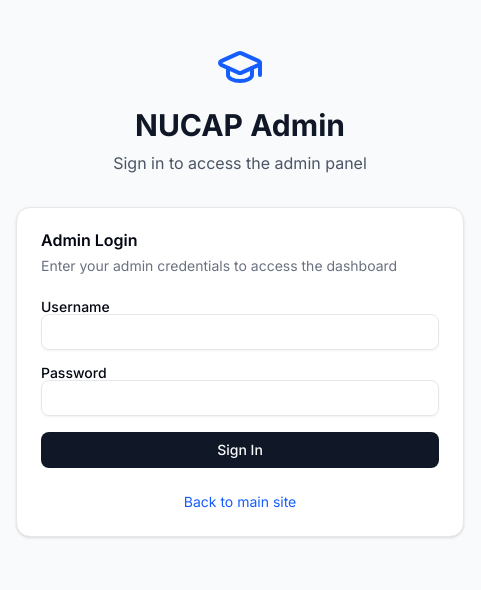
Test case: AdminLoginPage › should show error message when login fails
The image size is (481, 590).
Type "wronguser" into the field labelled "Username" at (240, 332), box top-left (41, 314), bottom-right (439, 350)
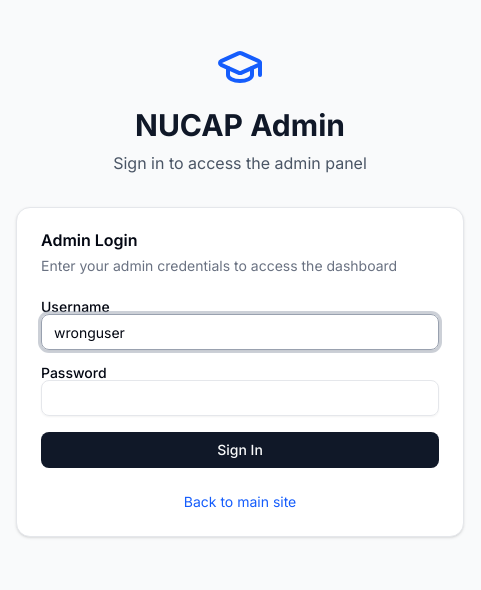
Type "wrongpass" into the password field labelled "Password" at (240, 398), box top-left (41, 380), bottom-right (439, 416)
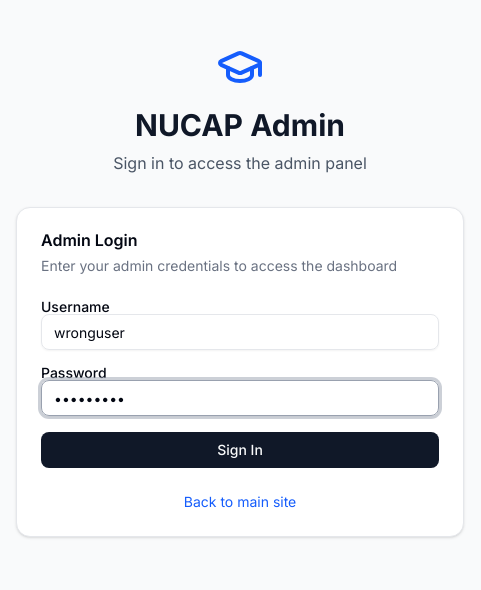
Click the button "Sign In" at (240, 450), box top-left (41, 432), bottom-right (439, 468)
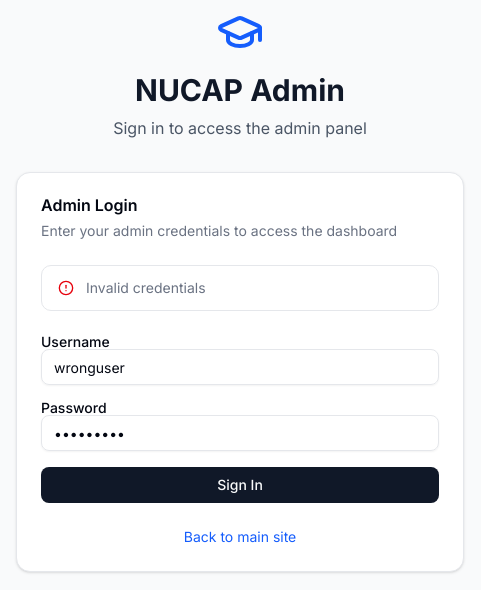
Check: the text "Invalid credentials" is shown, box top-left (86, 279), bottom-right (206, 296)
